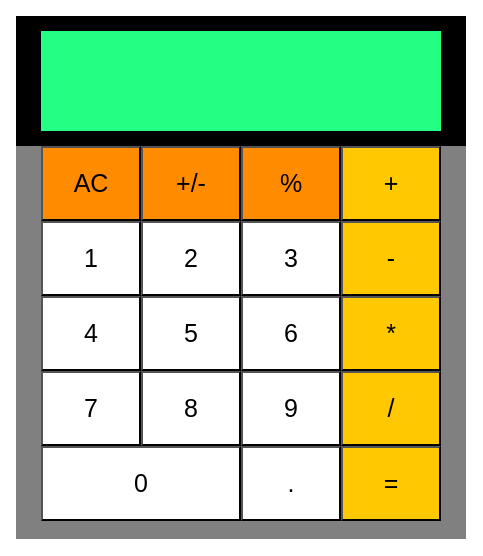
Test case: Testing component Button and screen › Testing Reset Button
This screenshot has width=483, height=556.
Click the button with test id "Seven" at x=91, y=408, box left=41, top=371, right=141, bottom=446
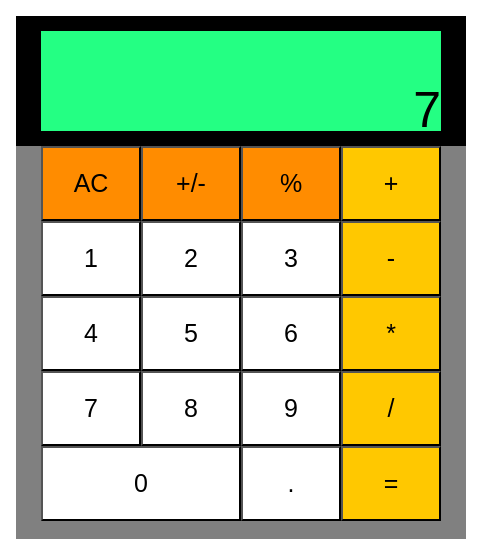
Click the button with test id "Reset" at x=91, y=184, box left=41, top=146, right=141, bottom=221
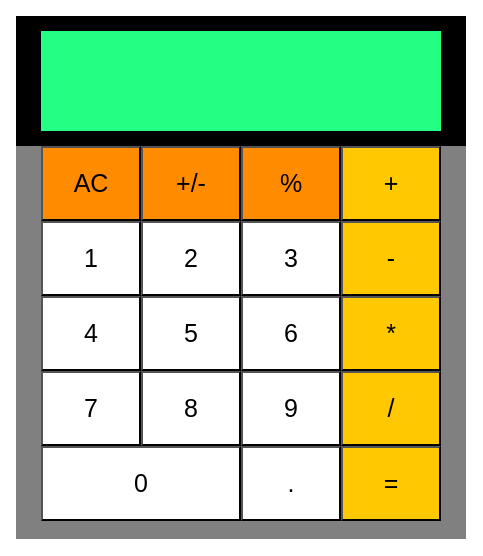
Expected: the element with test id "PantallaN" is empty, left=16, top=81, right=466, bottom=146
